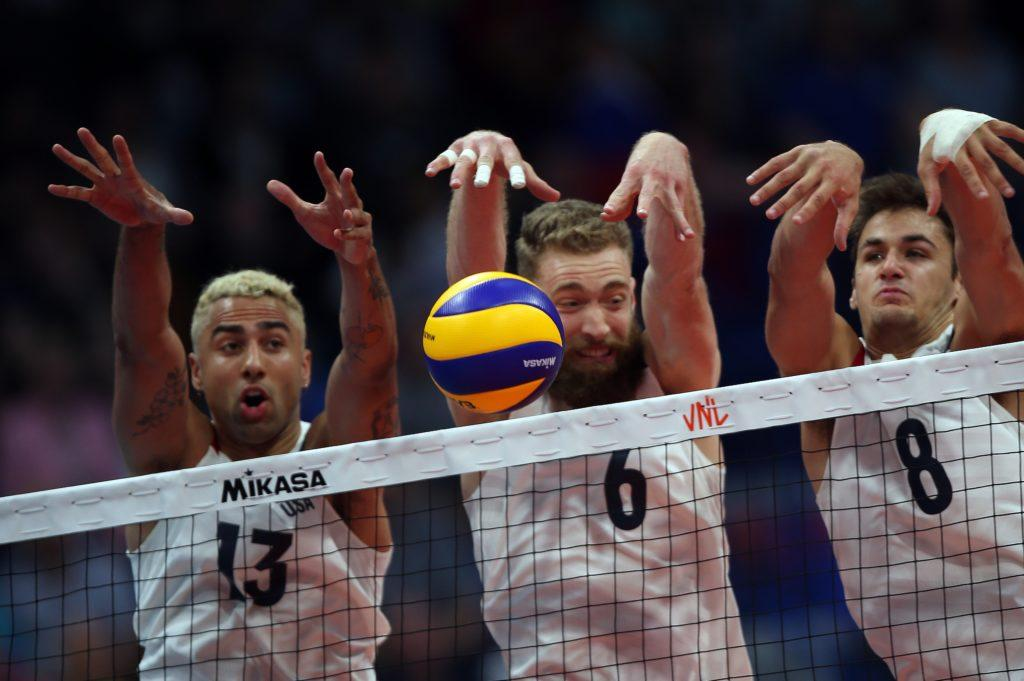ballon_volley: (421, 268, 566, 416)
